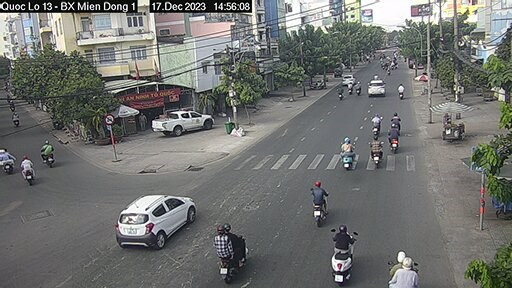car: (113, 192, 198, 254), (142, 106, 236, 154), (340, 71, 372, 108), (369, 77, 389, 110)
motorbike: (208, 223, 254, 286), (331, 220, 358, 279), (381, 247, 419, 288), (307, 180, 334, 221), (364, 132, 386, 167), (333, 138, 353, 173), (387, 125, 396, 152)
